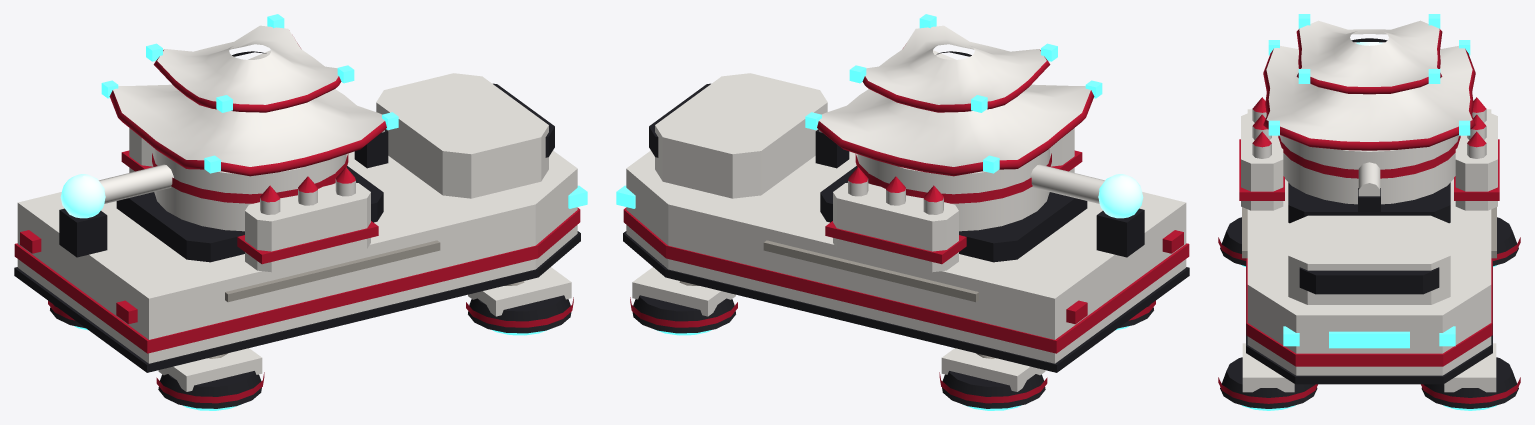
Rendered from JapanTenguSpireNanocore.glb.
3 views of the same model, side by side, from view 1: azimuth 30°, elevation 25°; view 2: azimuth 150°, elevation 25°; view 3: azimuth 270°, elevation 25° (orthographic). The views are drawn at different scales.
Visible parts, largest first — view 1: Base; view 2: Base; view 3: Base.
Boxes of the visible parts, box(x1,y1,x2,y2) form: Base: box(14, 14, 587, 410); Base: box(616, 14, 1189, 410); Base: box(1218, 14, 1520, 410).
Bounding box in the file's own units: 3.16 × 1.77 × 1.86.
